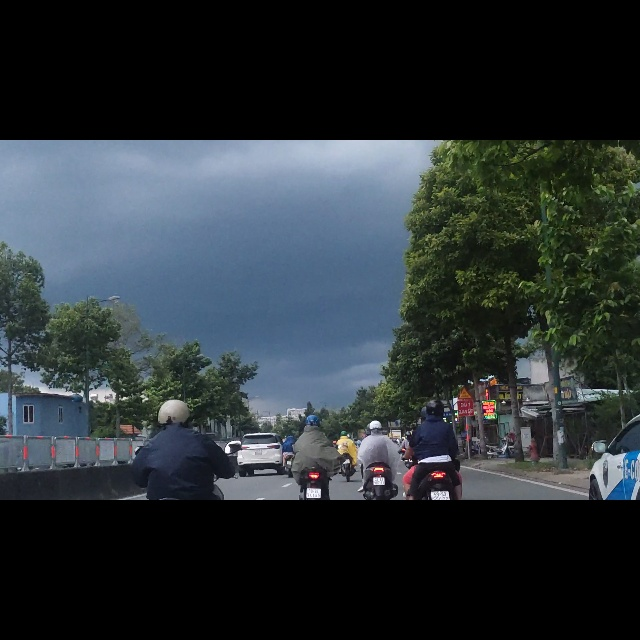bien_hieu_lenh: (457, 439, 472, 461)
